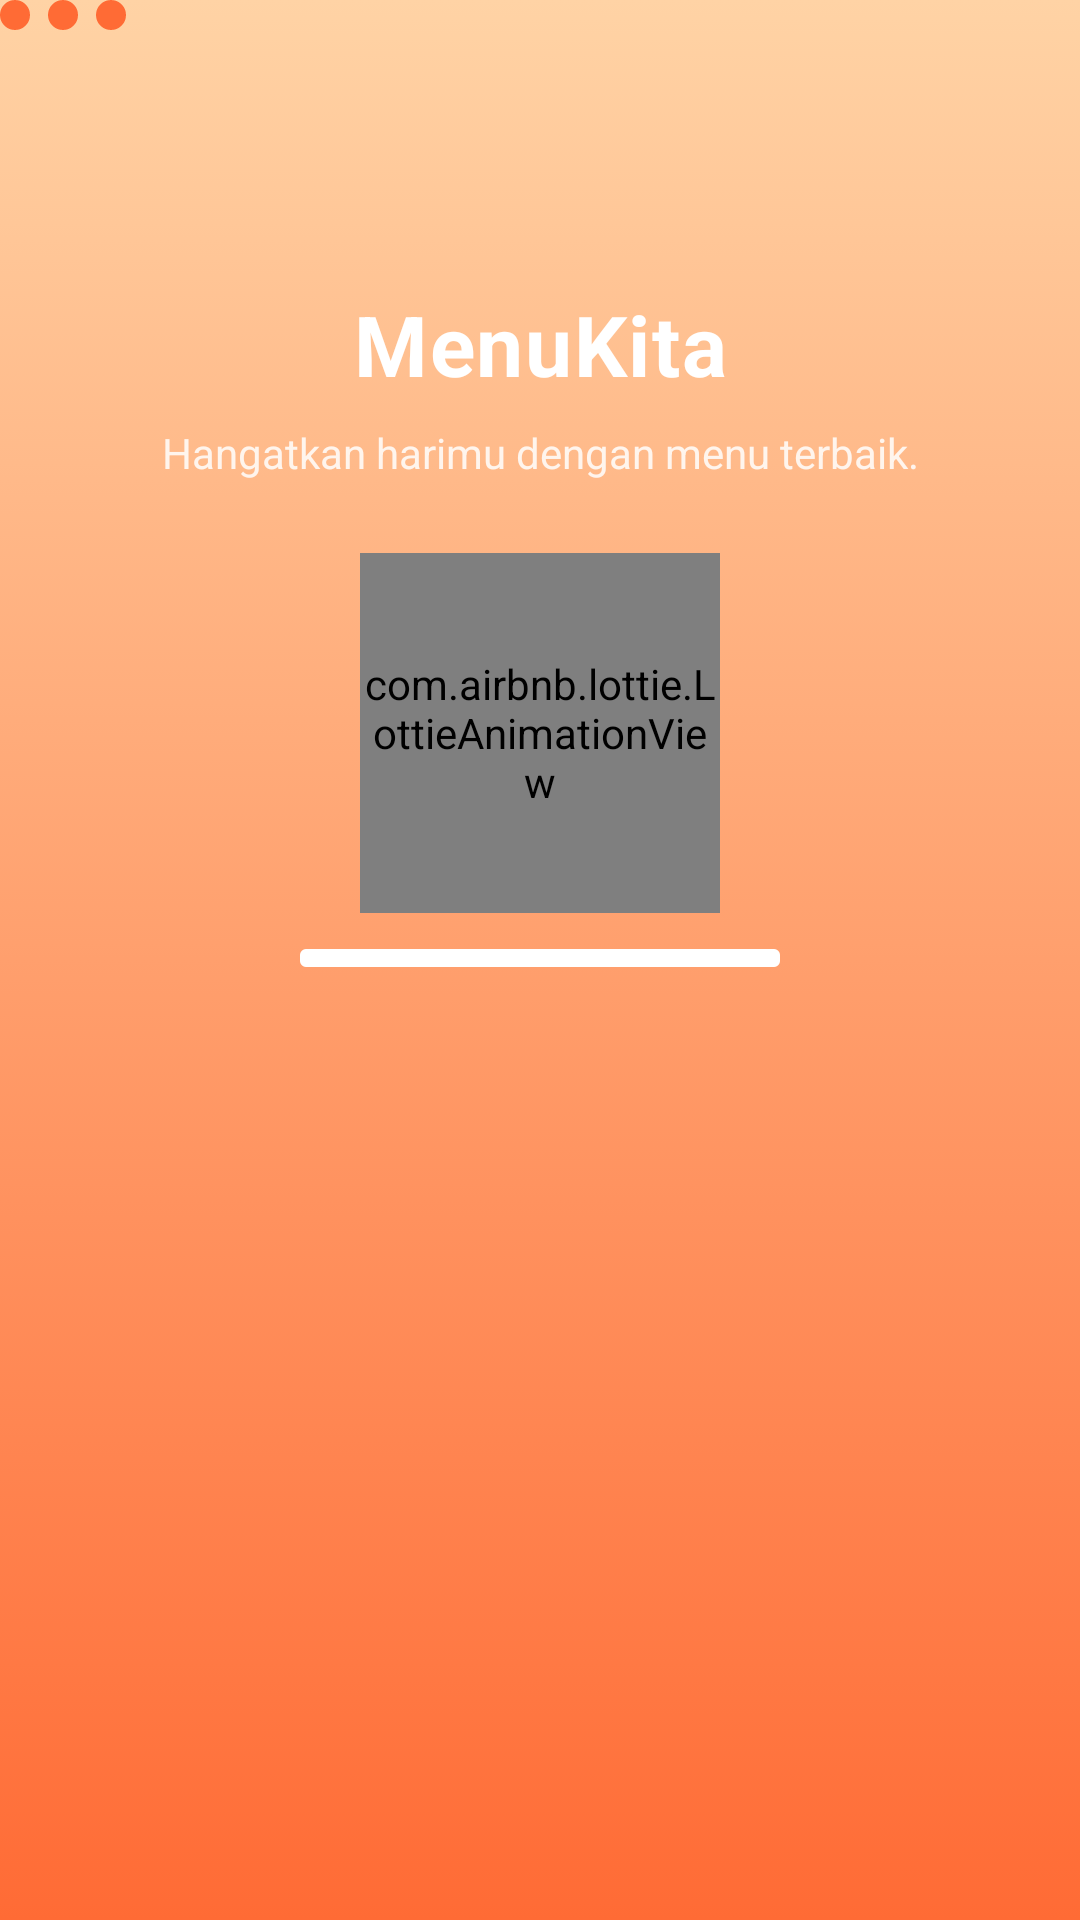

Point at icon controls on the screen. Image size 1080 x 1920, points as (x,y).
dot loader anim: (15,15), (63,15), (111,15)
